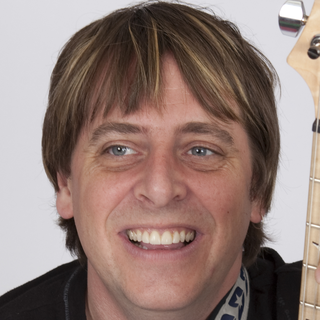eye: (177, 140, 228, 163), (96, 141, 147, 162)
